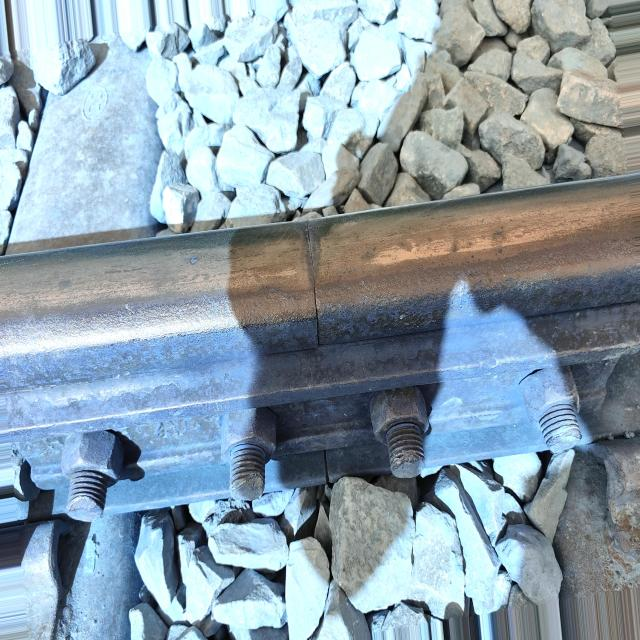crack: (273, 208, 364, 373)
